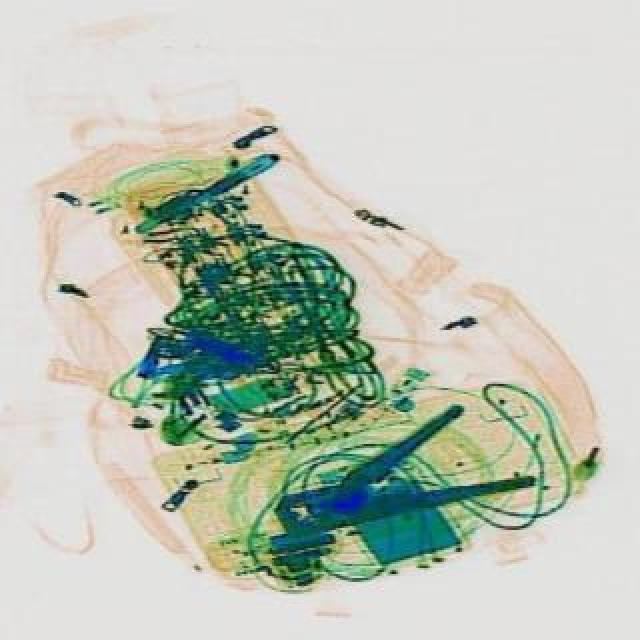wrench: (254, 388, 534, 568)
